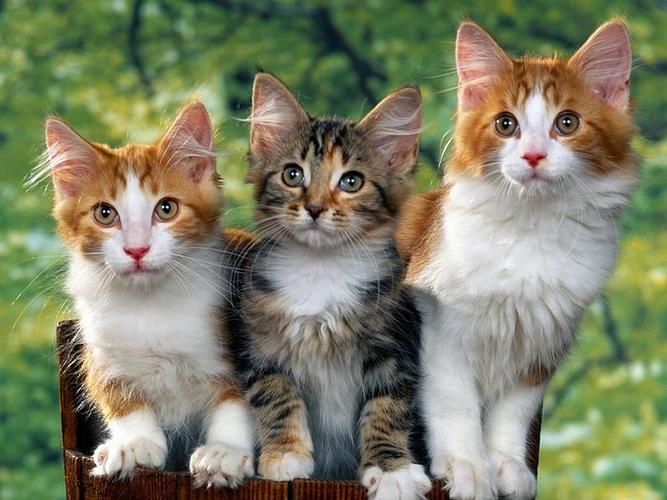cat: (398, 15, 642, 498), (236, 70, 430, 499), (43, 99, 256, 486)
